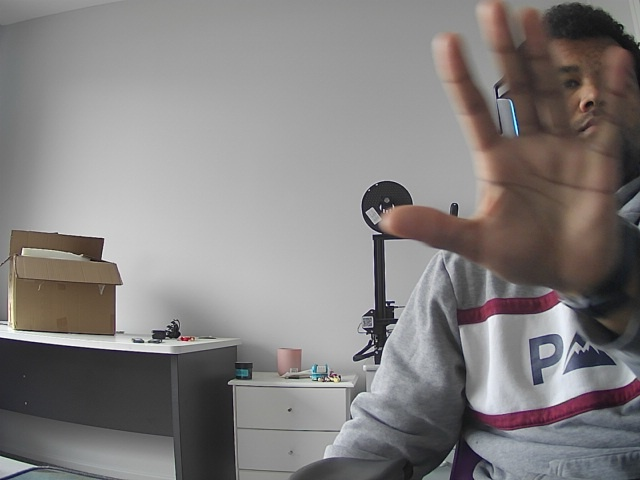Hello: (364, 1, 635, 284)
